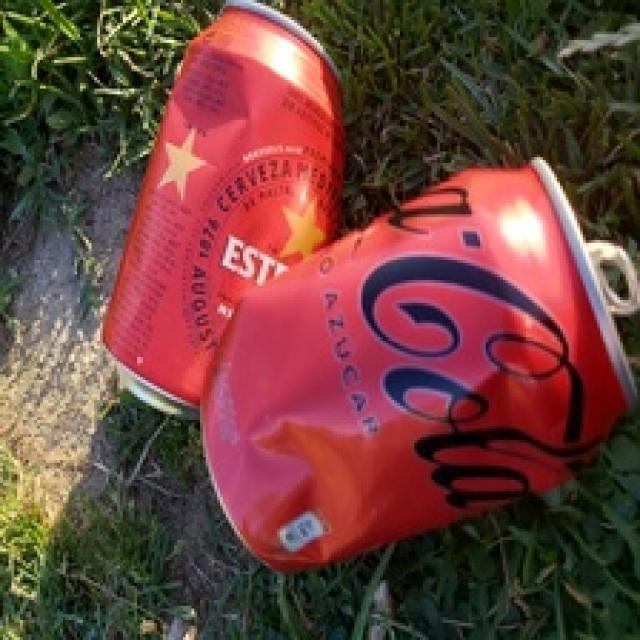recyclable: (197, 152, 640, 572), (97, 0, 345, 414)
